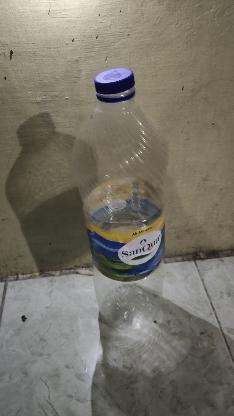Plastic Bottle: (69, 67, 169, 331)
